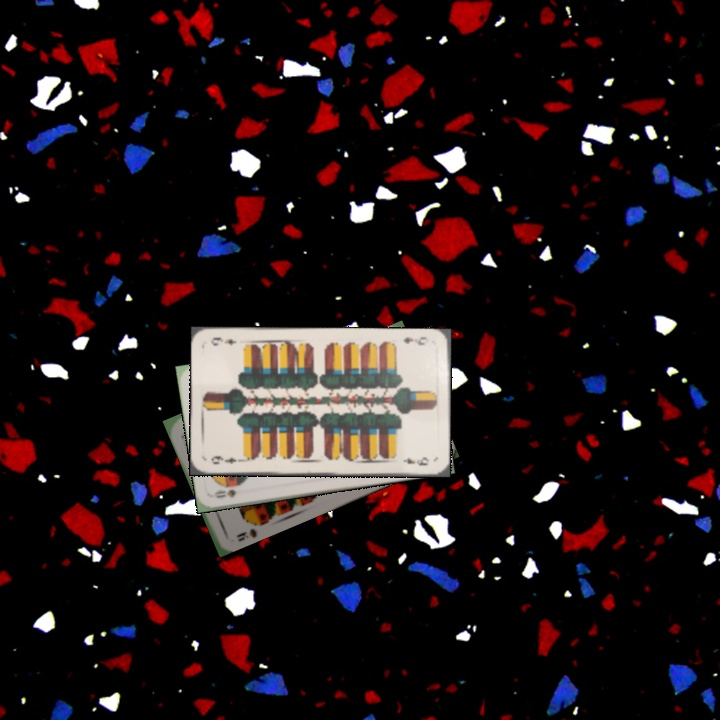E9: (207, 452, 245, 467), (399, 333, 429, 348)
S9: (232, 516, 266, 544)
SO: (210, 485, 239, 501)
